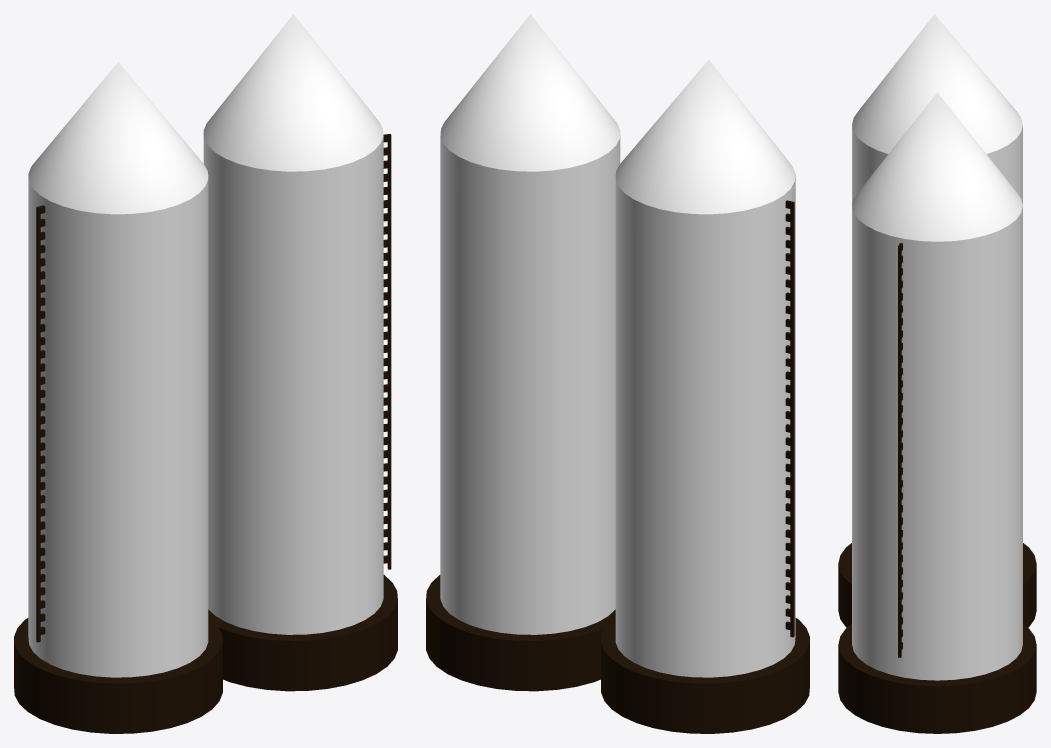
Rendered from Tall tanks.fbx.
The picture shows the model from 3 angles, left to right: view 1: azimuth 30°, elevation 25°; view 2: azimuth 150°, elevation 25°; view 3: azimuth 270°, elevation 25°; orthographic projection. The views are drawn at different scales.
Parts seen in each view (by area): view 1: Tall tanks; view 2: Tall tanks; view 3: Tall tanks.
Part boxes in pixels (box(x1,y1,x2,y2)): Tall tanks: box(14, 14, 397, 733); Tall tanks: box(426, 14, 809, 733); Tall tanks: box(838, 14, 1036, 733).
Size of the model in its own units: 553 by 939 by 281.
